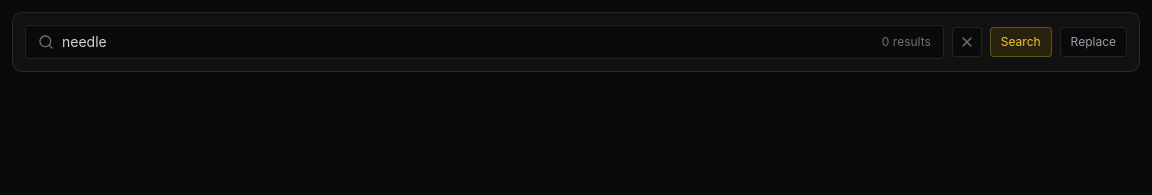
Test: TreeSearchBar replace controls › moves the active replacement index in both directions
The width and height of the screenshot is (1152, 195).
Click the button "Replace" at (1093, 42), box [1060,27,1127,57]
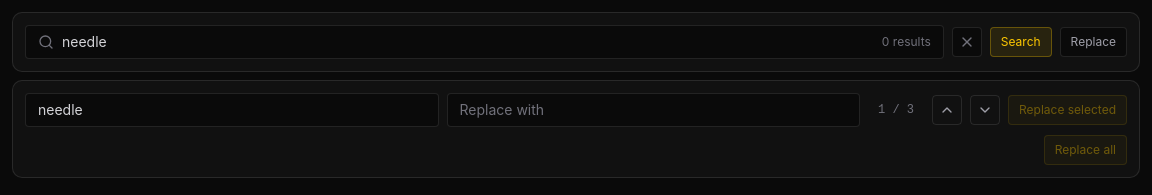
Click the button named "Next replace match" at (985, 110), box [970,95,1000,125]
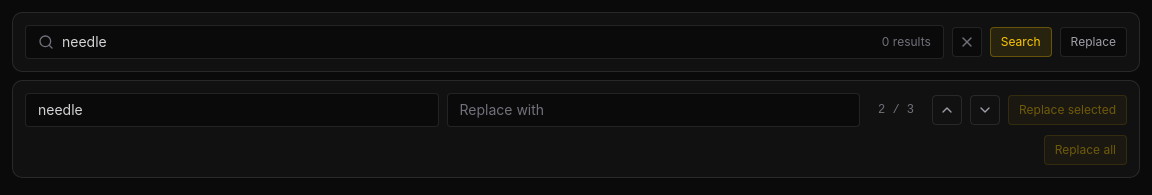
Now the text named "Replace match position" reads "2 / 3", box [878,103,914,117]
Click the button named "Previous replace match" at (947, 110), box [932,95,962,125]
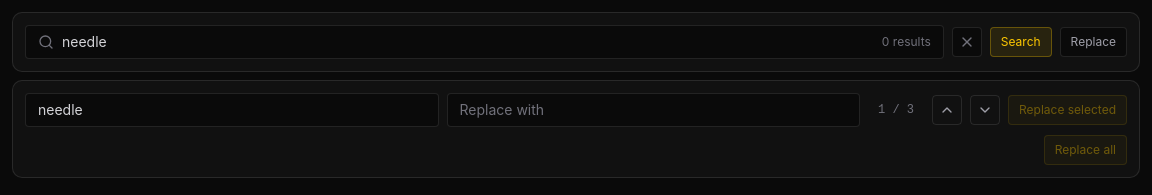
Now the text named "Replace match position" reads "1 / 3", box [878,103,914,117]
